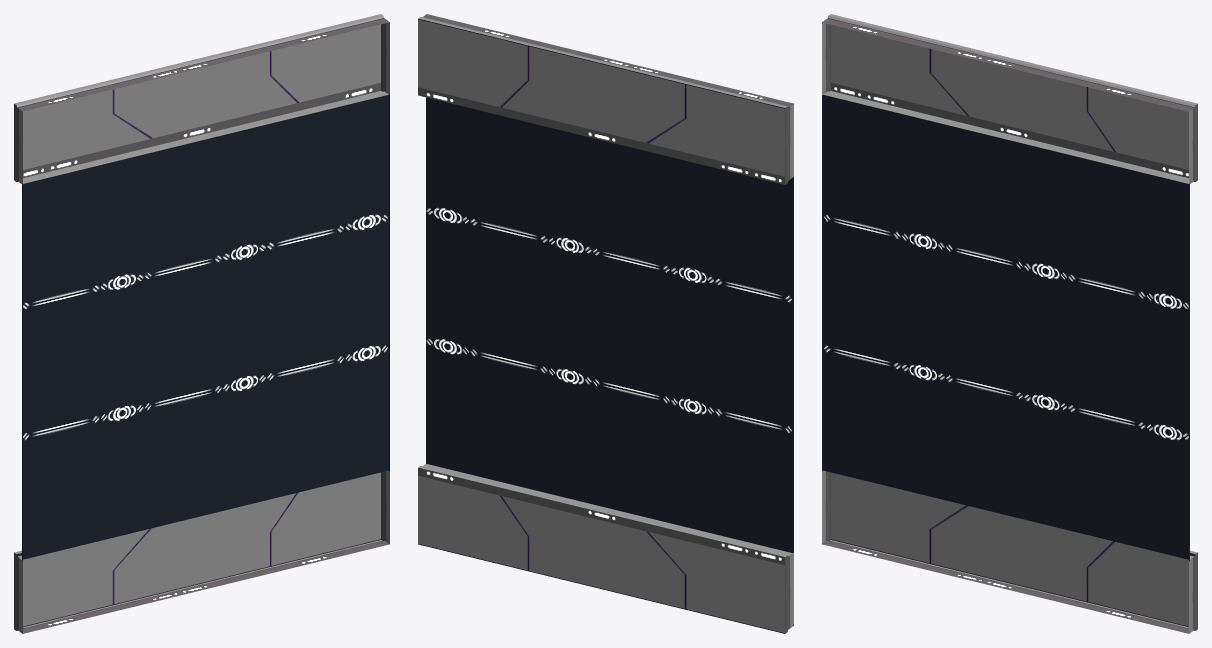
The model's file is SM_M_Road1.fbx.
3 views of the same model, side by side, from view 1: azimuth 30°, elevation 25°; view 2: azimuth 150°, elevation 25°; view 3: azimuth 330°, elevation 25° (orthographic).
Parts seen in each view (by area): view 1: SM_M_Road1; view 2: SM_M_Road1; view 3: SM_M_Road1.
Part boxes in pixels (bbox=[...]): SM_M_Road1: bbox=[14, 14, 389, 633]; SM_M_Road1: bbox=[418, 14, 793, 633]; SM_M_Road1: bbox=[822, 14, 1197, 633].
Bounding box in the file's own units: 2877 × 3938 × 119.
